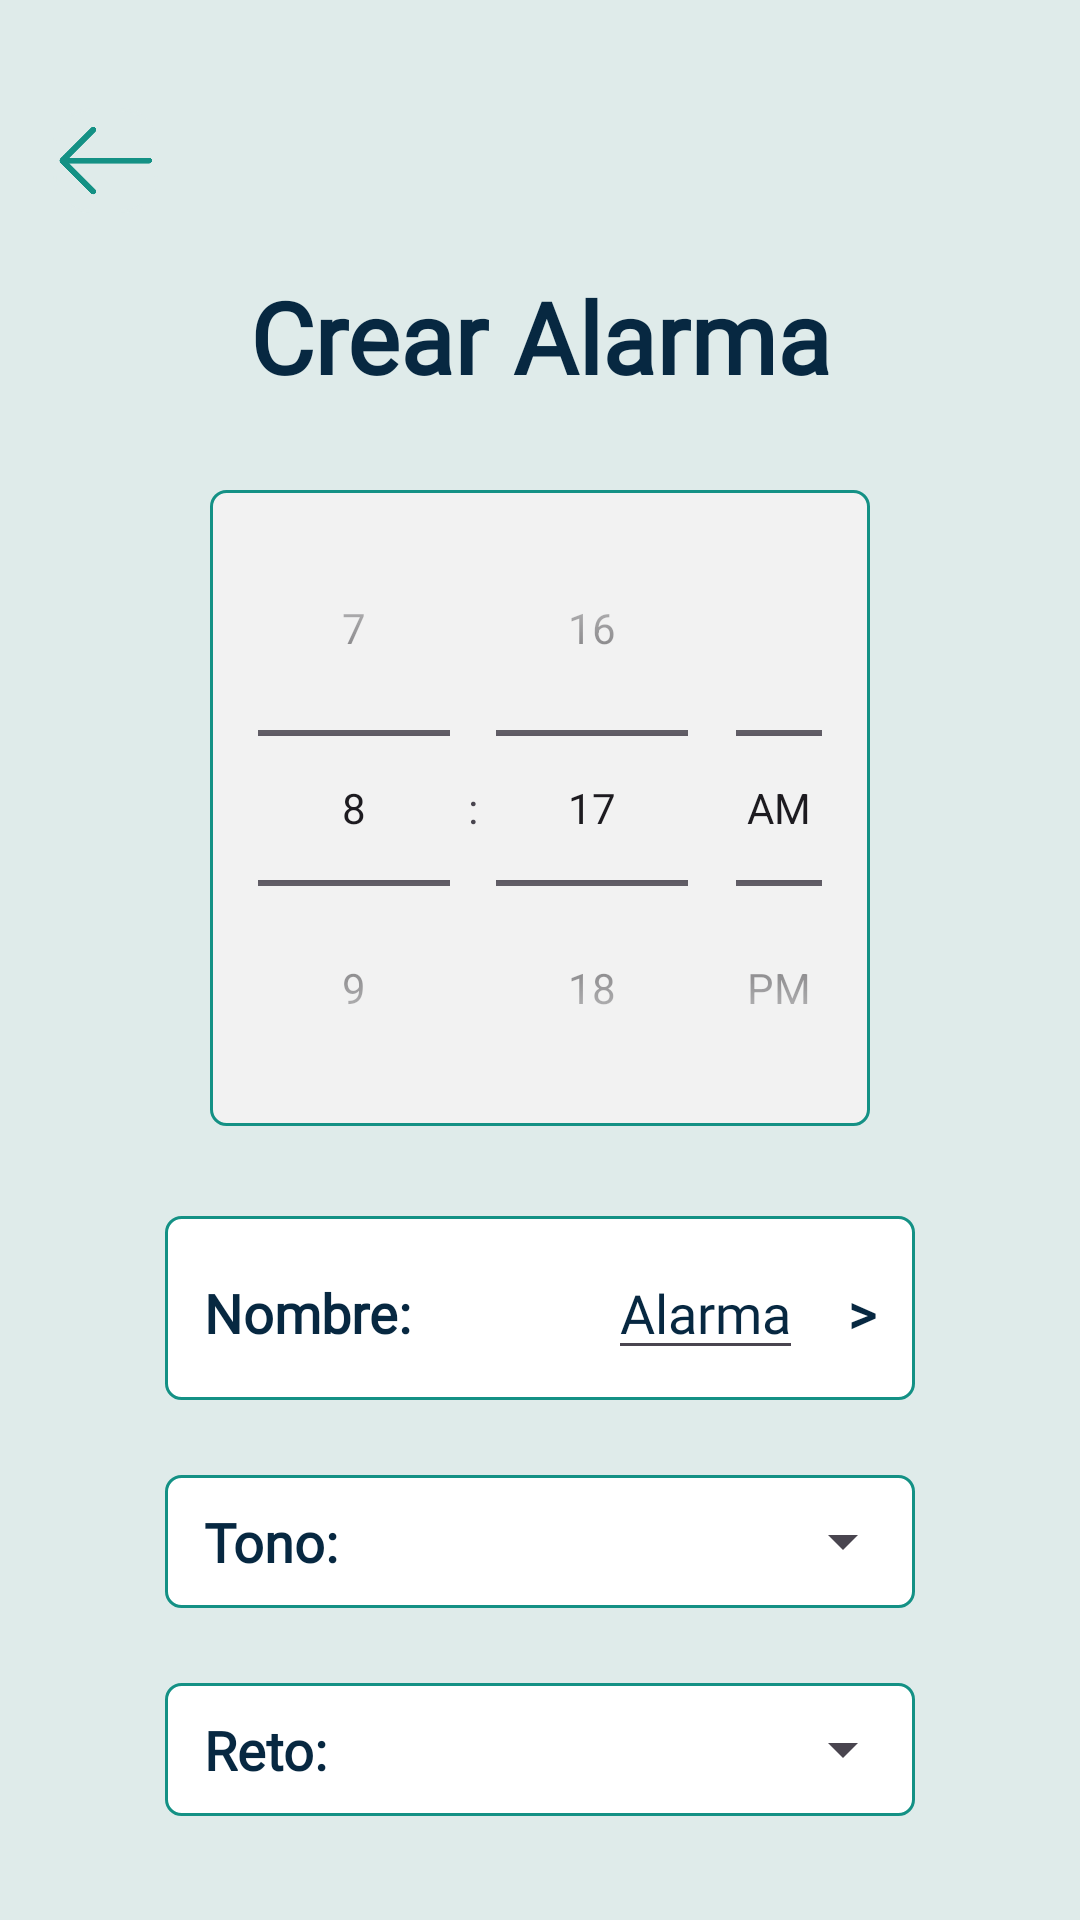

Icon bounding boxes for this 1080px×1920px phone screenshot, format (x1, y1, x2, y2):
back arrow: (59, 127, 152, 195)
